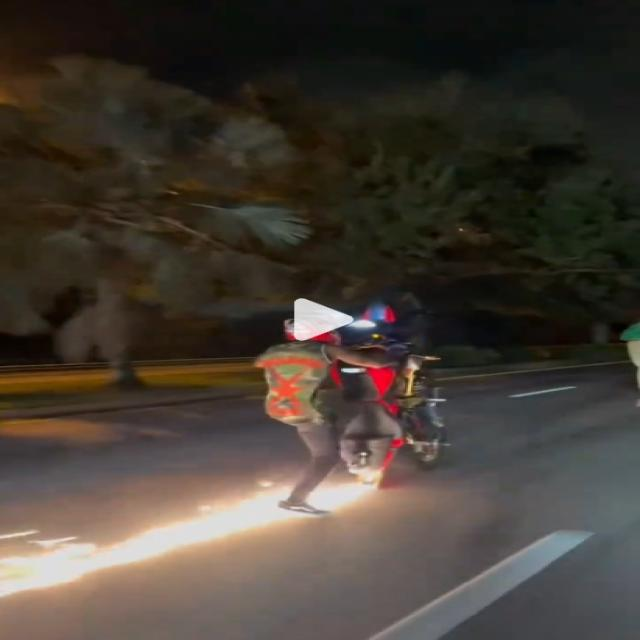fire: (0, 481, 378, 594)
